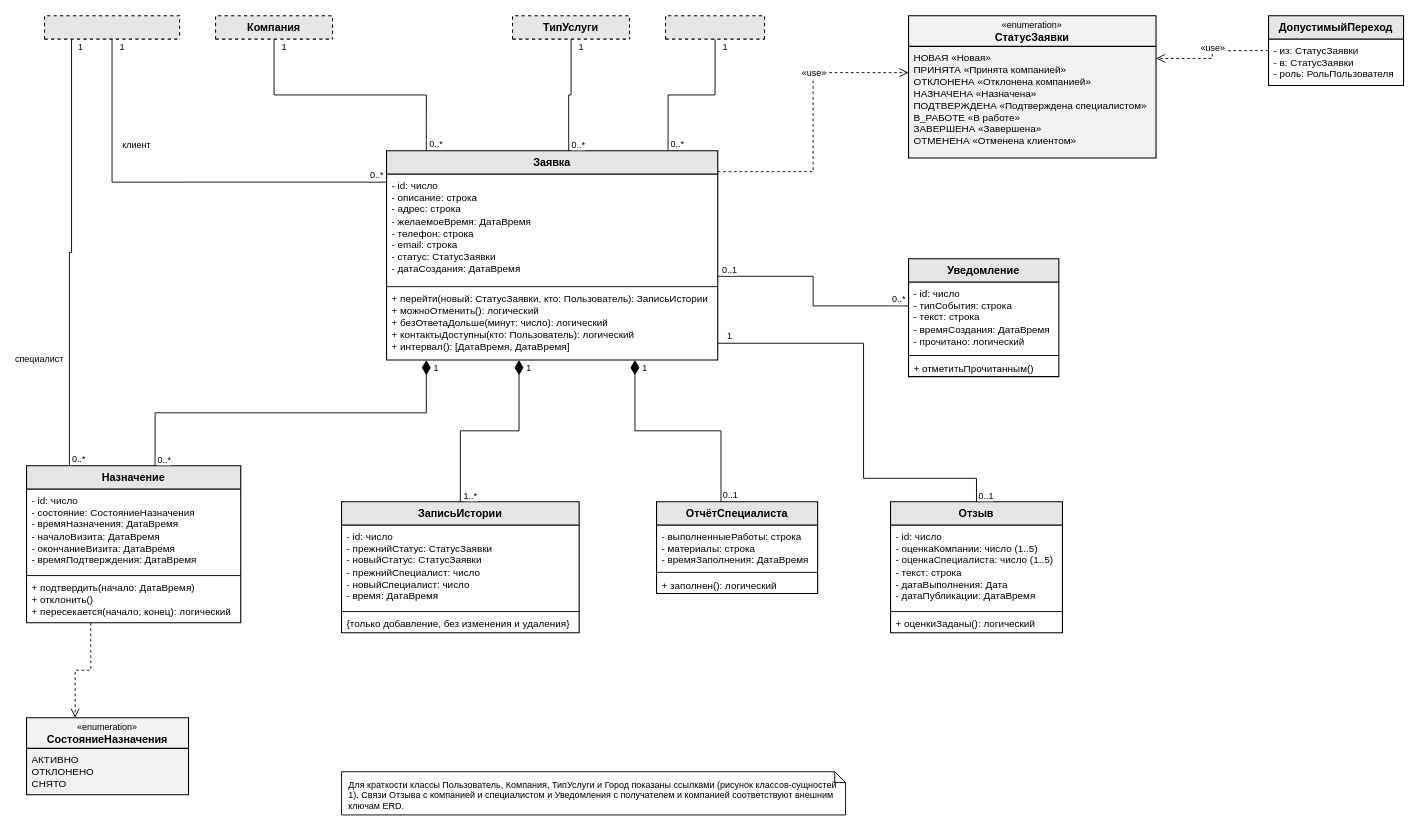
Some shapes in this 1420 by 832 pixel diagram are drawn without their labels. Here are the shapes that lost their labels. From the top down, the centre of each, then its label:
pixel 112 27: Пользователь
pixel 715 27: Город
